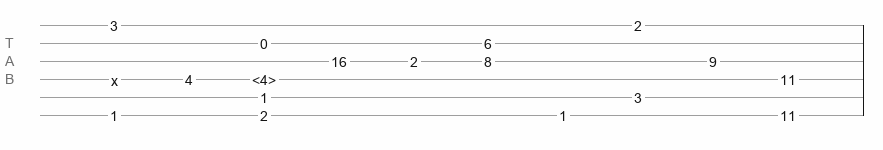0: (260, 36, 268, 46)
1: (110, 108, 118, 118), (260, 90, 268, 100), (559, 108, 567, 118)
11: (780, 108, 796, 118), (780, 72, 796, 82)
16: (331, 54, 347, 64)
2: (260, 108, 268, 118), (410, 54, 418, 64), (634, 18, 642, 28)
3: (110, 18, 118, 28), (634, 90, 642, 100)
4: (185, 72, 193, 82)
6: (484, 36, 492, 46)
8: (484, 54, 492, 64)
9: (709, 54, 717, 64)
harmonic: (252, 72, 276, 82)
x: (111, 73, 118, 81)
